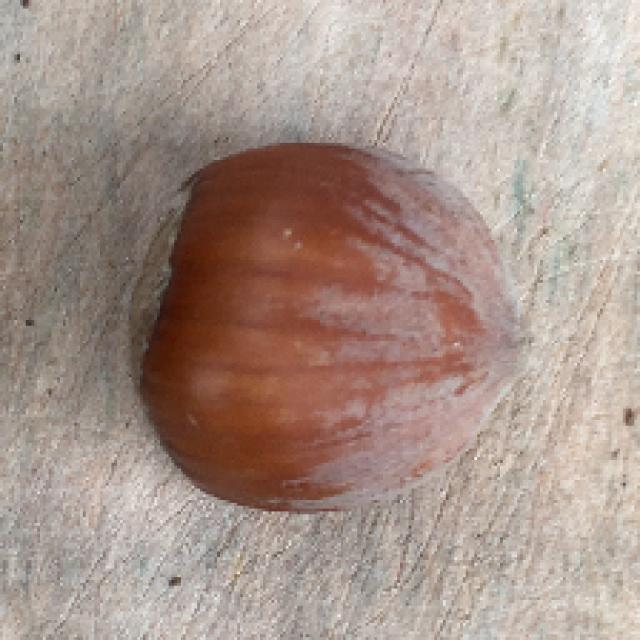QualityHazelnut: (127, 143, 541, 512)
